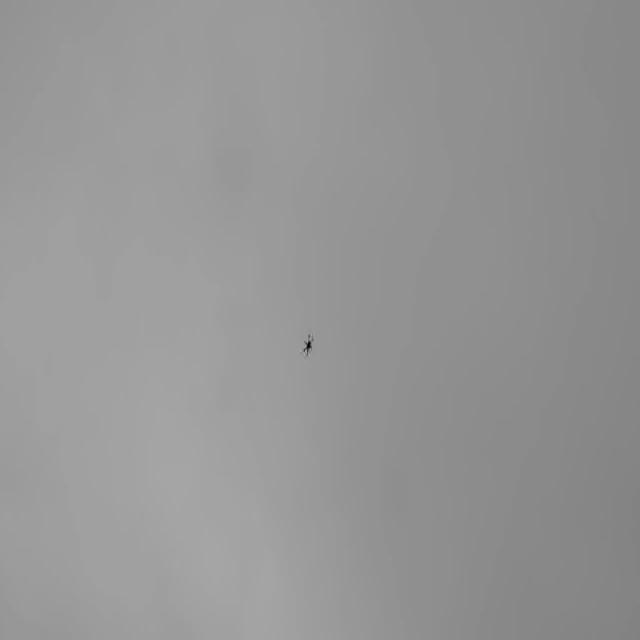drone: (298, 329, 318, 358)
